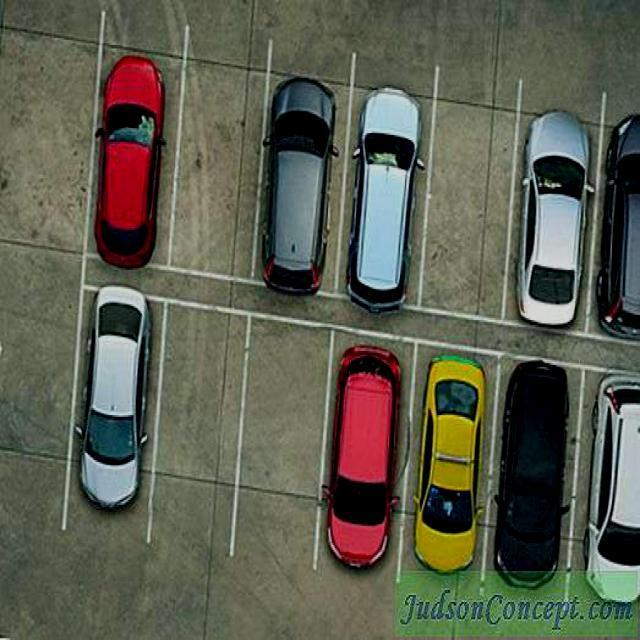space-empty: (149, 317, 246, 551), (415, 95, 517, 316), (231, 329, 328, 556), (166, 65, 261, 261)
space-occupied: (75, 36, 182, 273), (62, 283, 154, 536), (484, 360, 584, 585), (343, 84, 439, 318), (503, 100, 605, 320), (249, 64, 349, 280), (405, 344, 492, 574), (327, 325, 402, 569), (581, 367, 639, 597), (588, 109, 639, 338)
